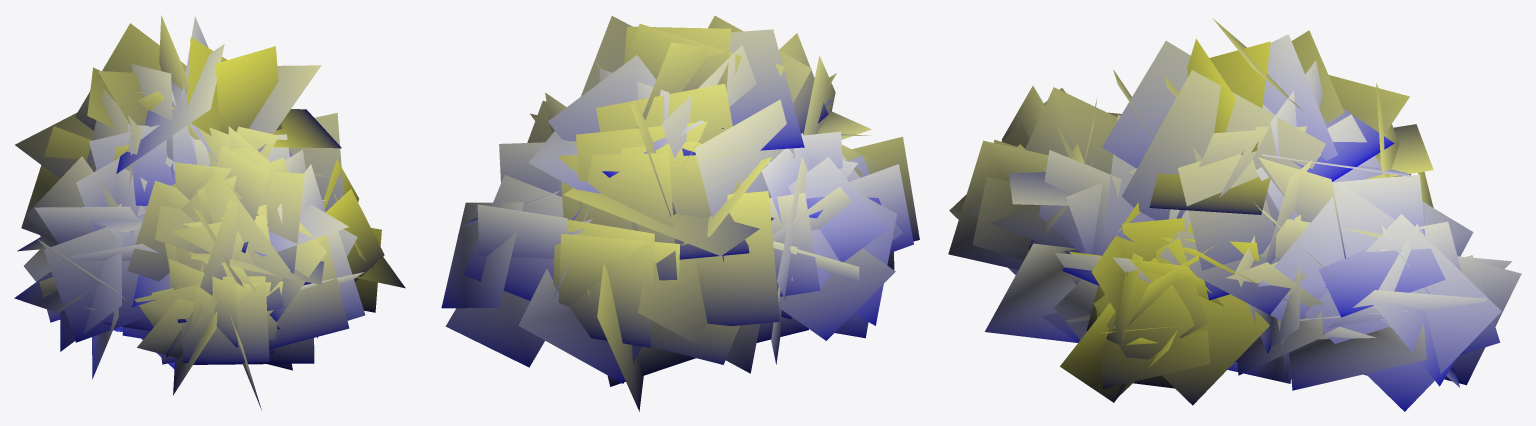
Rendered from bush-large-lod1.glb.
The picture shows the model from 3 angles, left to right: view 1: azimuth 30°, elevation 25°; view 2: azimuth 150°, elevation 25°; view 3: azimuth 270°, elevation 25°; orthographic projection. The views are drawn at different scales.
Parts seen in each view (by area): view 1: Bush large LOD1; view 2: Bush large LOD1; view 3: Bush large LOD1.
Part boxes in pixels (left/top/right/bottom): Bush large LOD1: left=14, top=15, right=405, bottom=409; Bush large LOD1: left=441, top=16, right=919, bottom=411; Bush large LOD1: left=948, top=18, right=1521, bottom=411.
Size of the model in its own units: 2.47 by 2.09 by 3.19.
